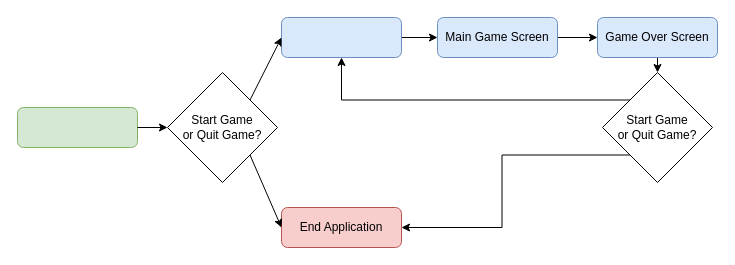
Image size: 735x265. Some labels were removed from this diagram. The box of each missing label's shape, as (x1, y1, x2, y2) in pixels:
Intro Cutscene: (280, 16, 402, 58)
Main Menu: (16, 106, 138, 148)
